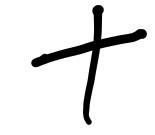plus: (32, 6, 147, 125)
